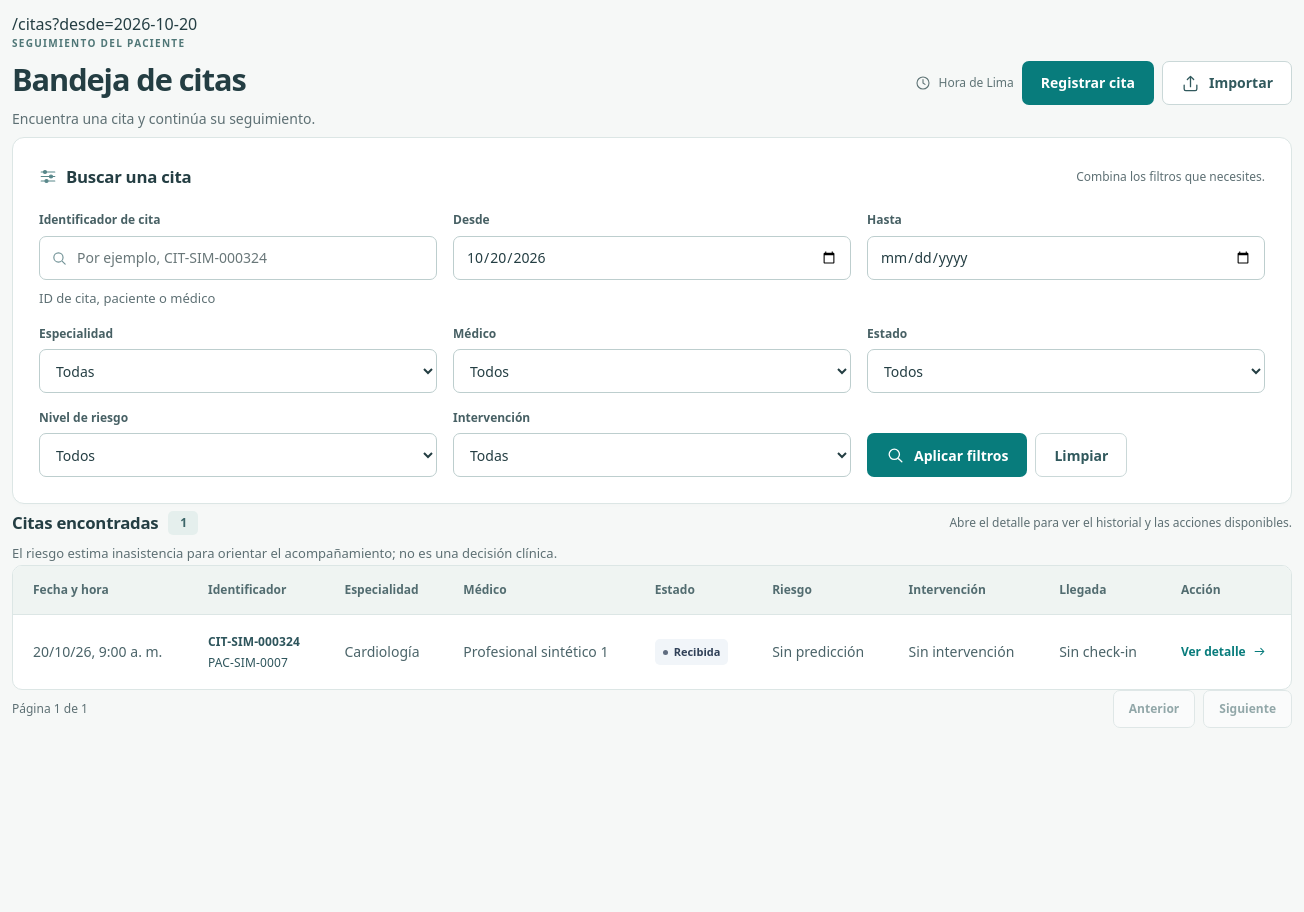
Scenario: Bandeja completa M02-V01 (RF-015, RF-016, RF-017, RF-084) › rechaza rangos de fechas invertidos sin solicitar otra página
expect the text "CIT-SIM-000324" is shown: met, box 208,633 -> 300,650
expect the button "Aplicar filtros" is enabled: met, box 867,433 -> 1028,477
Type "2026-10-19" into the date field labelled "Hasta" at point(1066, 258), box 867,236 -> 1265,280
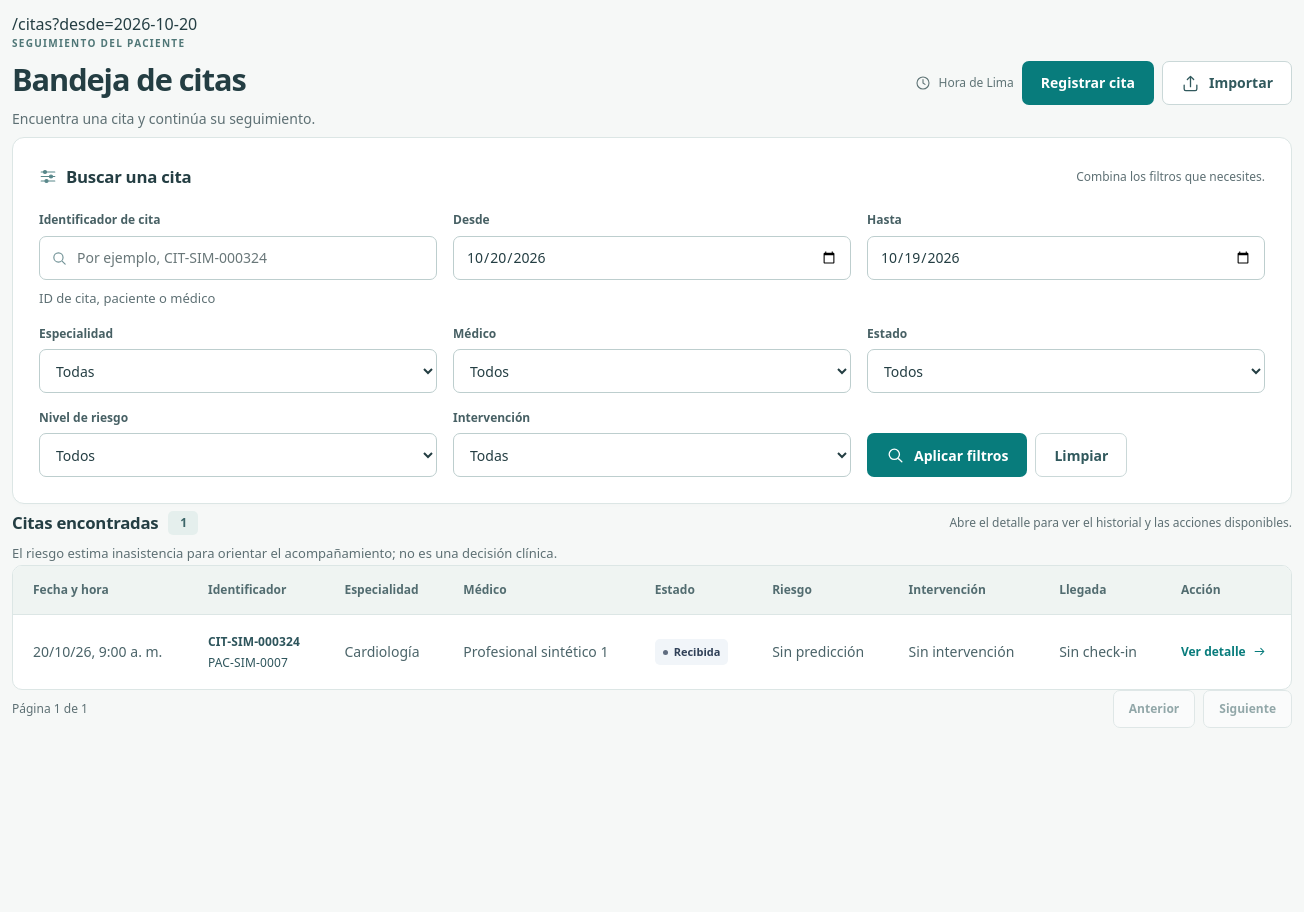
Click the button "Aplicar filtros" at point(947, 455), box 867,433 -> 1028,477
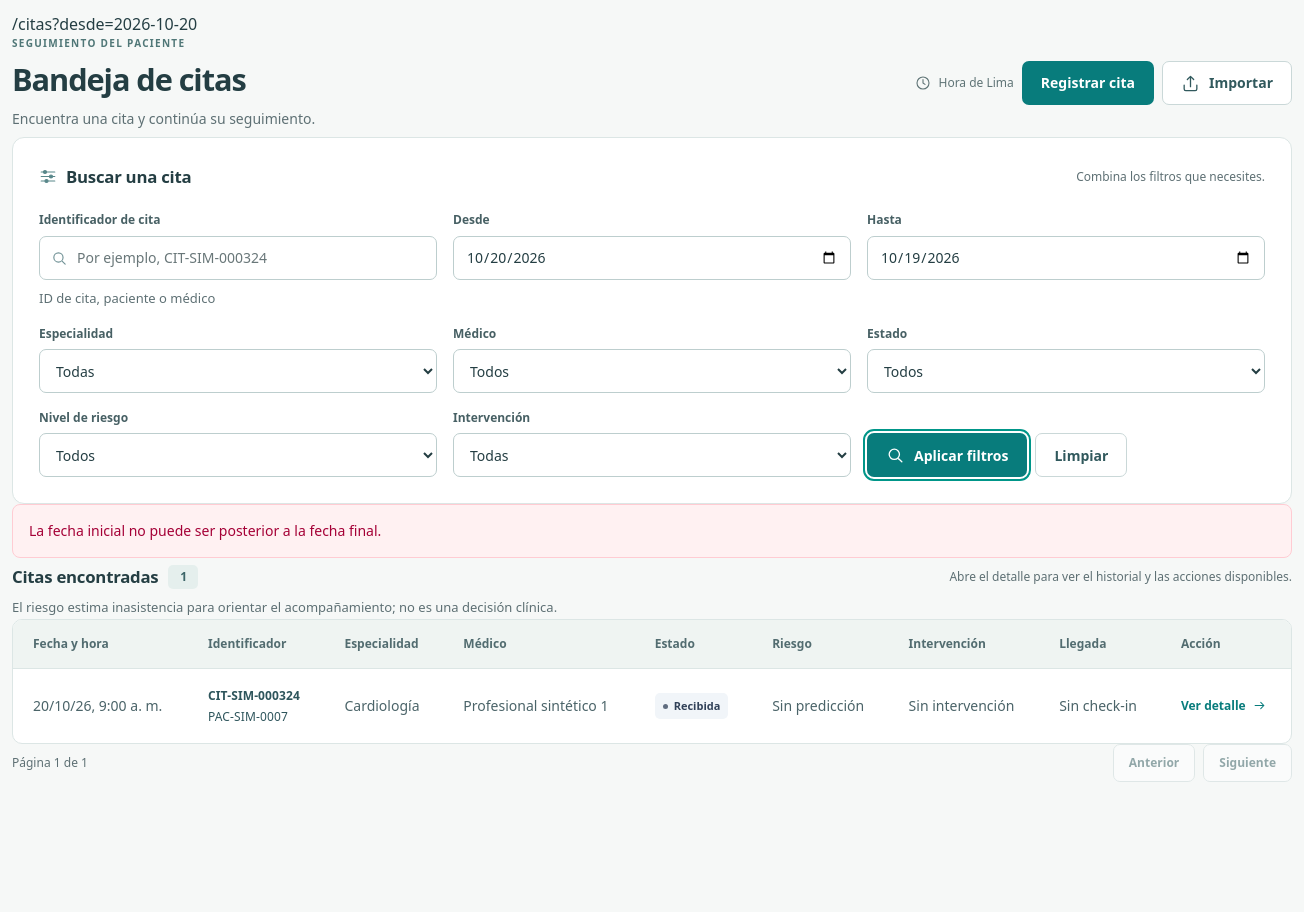
expect the message reads "La fecha inicial no puede ser posterior a la fecha final.": met, box 29,521 -> 381,540
